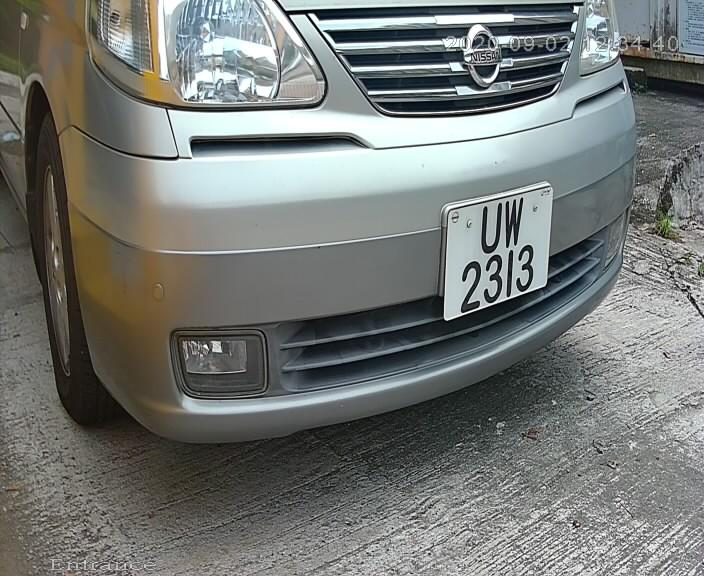License Plate: (441, 178, 557, 330)
